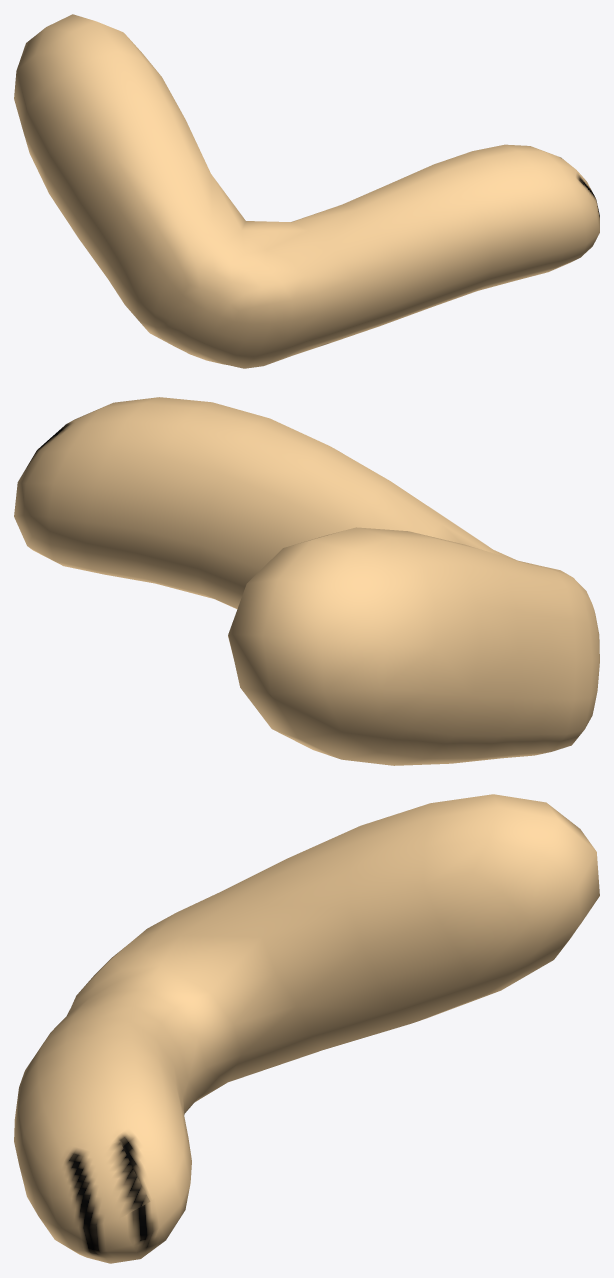
File: Dipper BI.obj
3 renders of one model, top to bottom at view 1: azimuth 30°, elevation 25°; view 2: azimuth 150°, elevation 25°; view 3: azimuth 270°, elevation 25°, orthographic. The views are drawn at different scales.
Parts seen in each view (by area): view 1: Brazo_Izq; view 2: Brazo_Izq; view 3: Brazo_Izq.
Part boxes in pixels (x1,y1,x2,y2): Brazo_Izq: (14, 14, 599, 368); Brazo_Izq: (14, 397, 599, 765); Brazo_Izq: (14, 794, 599, 1263).
Bounding box in the file's own units: 0.6784 × 0.3689 × 0.6299.
